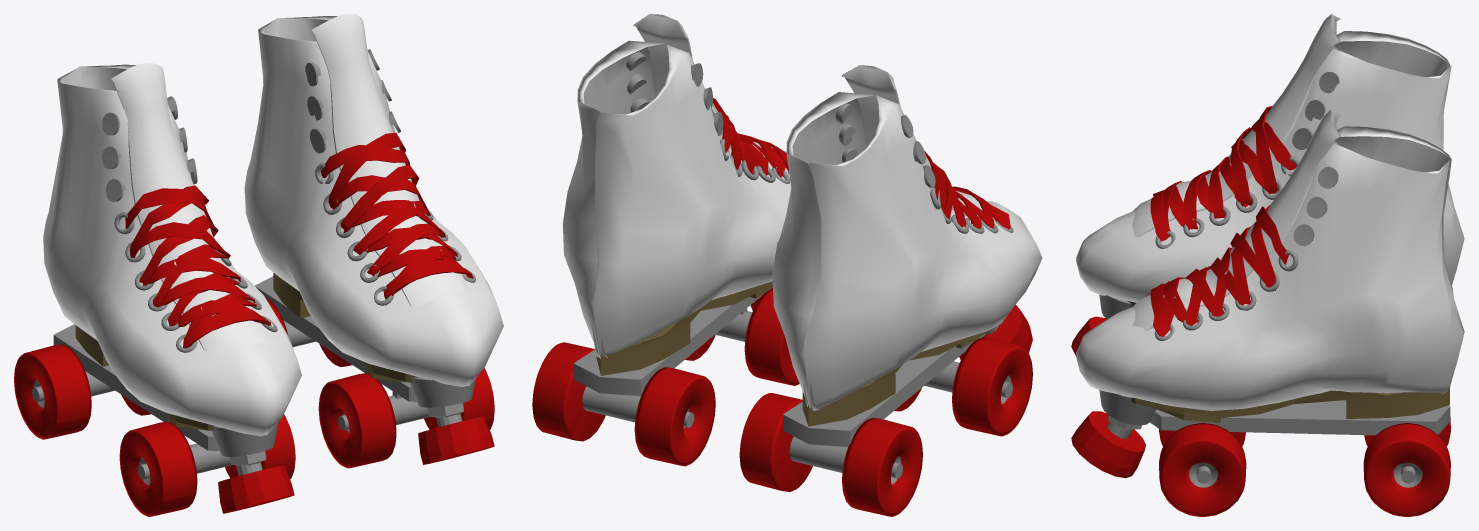
File: roller skates (1).fbx
The picture shows the model from 3 angles, left to right: view 1: azimuth 30°, elevation 25°; view 2: azimuth 150°, elevation 25°; view 3: azimuth 270°, elevation 25°; orthographic projection. The views are drawn at different scales.
Visible parts, largest first — view 1: roller_skate_1, roller_skate_2, shoe_tongue (×2), wheel1 (×2), wheel (×2), wheel3, rubber_stopper (×2), metal_bottom (×2), stopper (×2), sweep8 (×2), sweep7 (×2), shoe_bottom (×2) (+10 smaller); view 2: roller_skate_2, roller_skate_1, wheel2 (×2), wheel3 (×2), metal_bottom (×2), wheel, shoe_bottom (×2), shoe_tongue (×2), wheel1, wheel_metal1 (×2), wheel_metal (×2), rubber_stopper; view 3: roller_skate_1, roller_skate_2, shoe_tongue (×2), wheel, wheel3, metal_bottom, shoe_bottom, rubber_stopper, stopper (×2), sweep8 (×2), sweep7 (×2), sweep3 (×2) (+9 smaller).
Boxes of the visible parts, x1,y1,x2,y2 form: roller_skate_1: (244, 16, 503, 386); roller_skate_2: (43, 64, 301, 436); shoe_tongue (×2): (111, 14, 467, 353); wheel1 (×2): (225, 373, 396, 479); wheel (×2): (119, 368, 494, 516); wheel3: (14, 344, 91, 439); rubber_stopper (×2): (218, 413, 494, 513); metal_bottom (×2): (53, 276, 416, 450); stopper (×2): (211, 377, 476, 456); sweep8 (×2): (125, 132, 405, 228); sweep7 (×2): (130, 164, 419, 259); shoe_bottom (×2): (75, 273, 418, 430); roller_skate_2: (772, 92, 1042, 411); roller_skate_1: (563, 40, 791, 358); wheel2 (×2): (634, 367, 812, 491); wheel3 (×2): (532, 342, 922, 516); metal_bottom (×2): (573, 294, 985, 446); wheel: (952, 337, 1032, 436); shoe_bottom (×2): (596, 281, 994, 426); shoe_tongue (×2): (633, 14, 998, 215); wheel1: (744, 288, 799, 385); wheel_metal1 (×2): (582, 386, 902, 484); wheel_metal (×2): (715, 308, 1012, 403); rubber_stopper: (959, 304, 1032, 359); roller_skate_1: (1076, 126, 1464, 410); roller_skate_2: (1076, 31, 1464, 302); shoe_tongue (×2): (1132, 14, 1340, 331); wheel: (1159, 423, 1246, 516); wheel3: (1363, 423, 1450, 516); metal_bottom: (1149, 400, 1450, 435); shoe_bottom: (1131, 386, 1449, 422); rubber_stopper: (1071, 411, 1145, 478); stopper (×2): (1099, 294, 1156, 425); sweep8 (×2): (1255, 106, 1288, 264); sweep7 (×2): (1230, 127, 1273, 287); sweep3 (×2): (1150, 190, 1170, 336).
Size of the model in its own units: 4.92 by 5.1 by 4.87.
